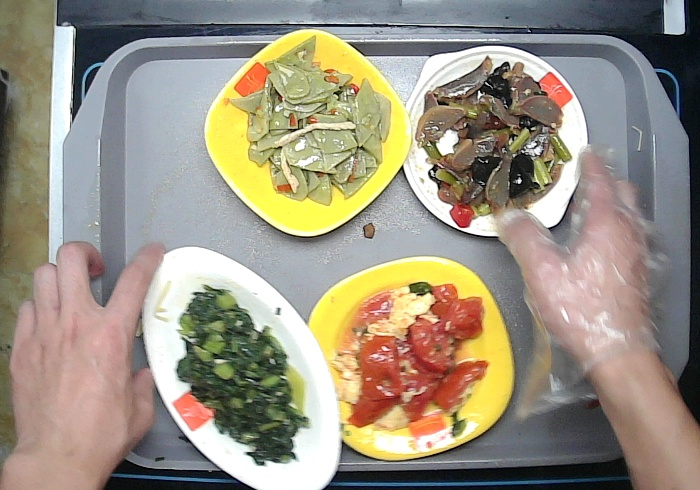SHKJ-Bao_Yu_Pan: (396, 46, 588, 233)
SHKJ-Huang_Se_Cai_Die: (204, 30, 410, 234)
SHKJ-Huang_Se_Si_Fang_Cai_Die: (304, 257, 516, 462)
SHKJ-Yu_Pan: (140, 246, 348, 490)
